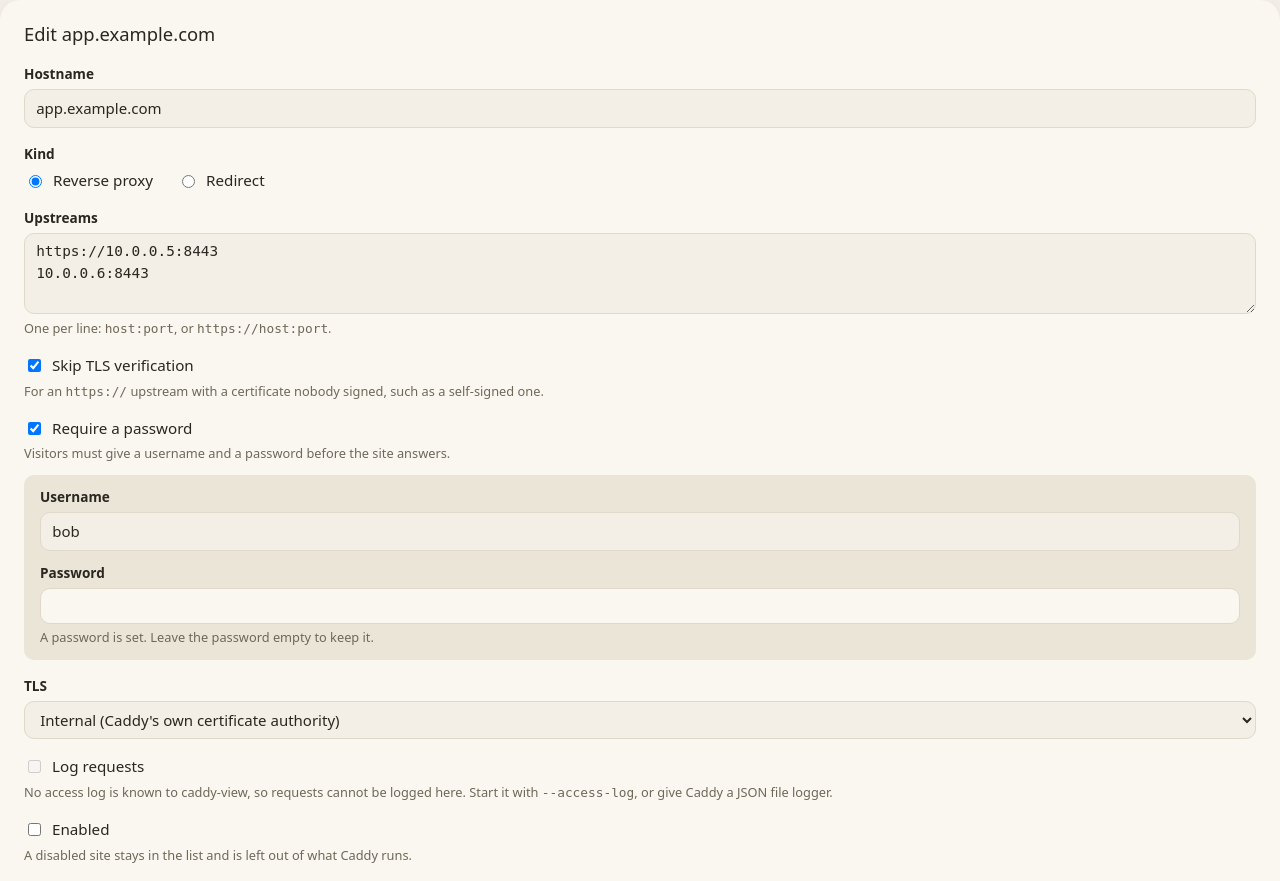
Test case: SiteWizard password protection › of a site that has a password › takes the password away when the switch is turned off
Click the checkbox labelled "Require a password" at (34, 428), box [28,422,41,435]
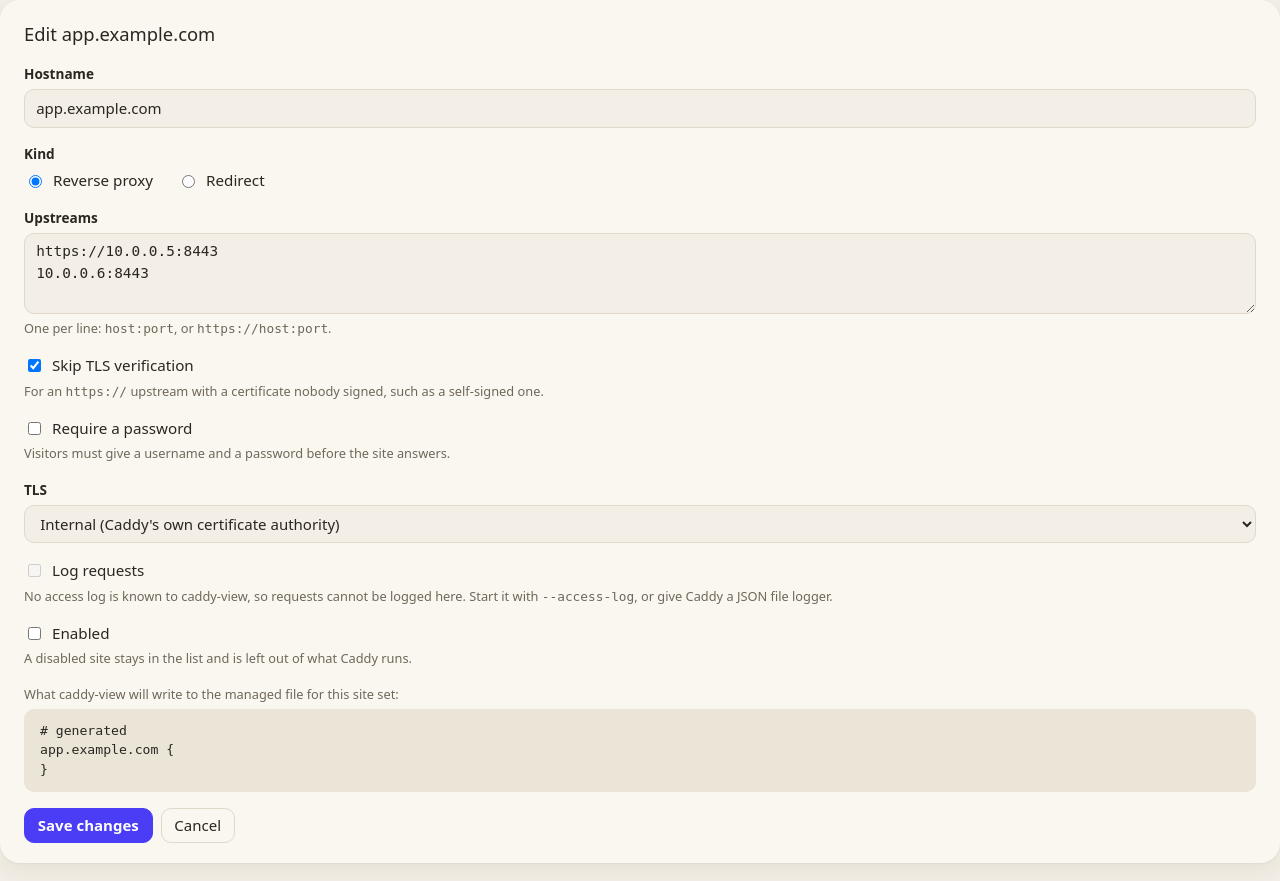
Now the text "A password is set" is gone
